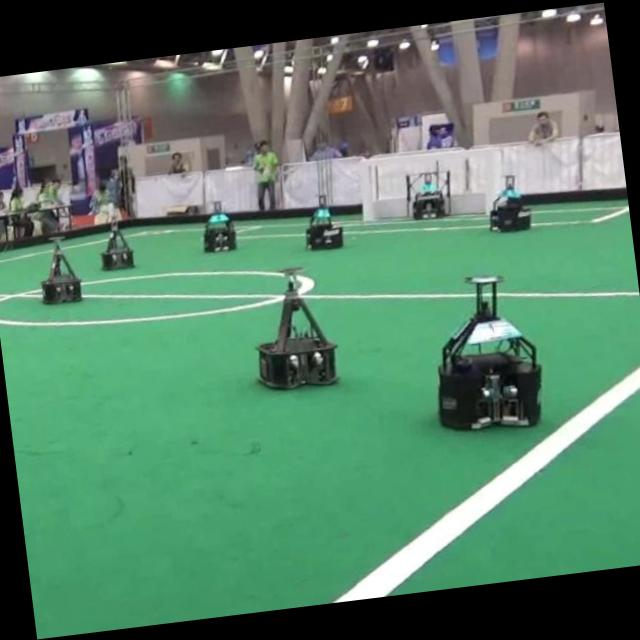goal: (480, 145, 497, 213), (362, 158, 374, 219)
robot: (438, 275, 540, 428), (257, 270, 336, 387), (41, 242, 80, 302), (490, 174, 530, 229), (407, 169, 450, 218), (305, 193, 342, 247), (204, 200, 234, 248), (100, 227, 133, 268)
